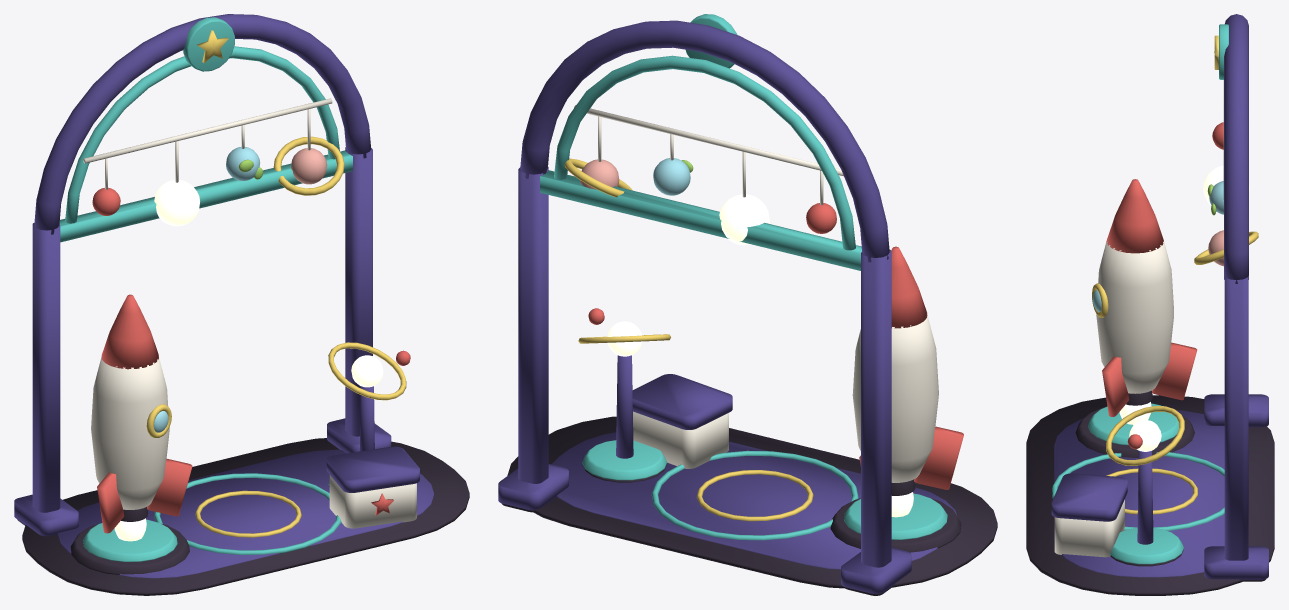
The model's file is space.glb.
3 views of the same model, side by side, from view 1: azimuth 30°, elevation 25°; view 2: azimuth 150°, elevation 25°; view 3: azimuth 270°, elevation 25° (orthographic). The views are drawn at different scales.
Visible parts, largest first — view 1: ThemeSpace_IndigoArchAndRug, ThemeSpace_SlateBaseAndPad, ThemeSpace_TurquoiseTechAccents, ThemeSpace_CreamRocketAndCrate, ThemeSpace_CoralFinsAndPlanets, ThemeSpace_ButterRingsAndStars, ThemeSpace_GlowSunAndThruster, ThemeSpace_SkyBlueEarthAndGlass, ThemeSpace_PeachSaturnBody; view 2: ThemeSpace_IndigoArchAndRug, ThemeSpace_TurquoiseTechAccents, ThemeSpace_SlateBaseAndPad, ThemeSpace_CreamRocketAndCrate, ThemeSpace_CoralFinsAndPlanets, ThemeSpace_GlowSunAndThruster, ThemeSpace_ButterRingsAndStars, ThemeSpace_SkyBlueEarthAndGlass, ThemeSpace_PeachSaturnBody; view 3: ThemeSpace_IndigoArchAndRug, ThemeSpace_SlateBaseAndPad, ThemeSpace_CreamRocketAndCrate, ThemeSpace_CoralFinsAndPlanets, ThemeSpace_TurquoiseTechAccents, ThemeSpace_ButterRingsAndStars, ThemeSpace_GlowSunAndThruster, ThemeSpace_SkyBlueEarthAndGlass, ThemeSpace_PeachSaturnBody.
Boxes of the visible parts, <box> form: ThemeSpace_IndigoArchAndRug: <box>14,14,433,578</box>; ThemeSpace_SlateBaseAndPad: <box>17,438,469,595</box>; ThemeSpace_TurquoiseTechAccents: <box>59,17,352,561</box>; ThemeSpace_CreamRocketAndCrate: <box>83,98,416,528</box>; ThemeSpace_CoralFinsAndPlanets: <box>92,187,410,533</box>; ThemeSpace_ButterRingsAndStars: <box>146,30,406,537</box>; ThemeSpace_GlowSunAndThruster: <box>114,180,383,541</box>; ThemeSpace_SkyBlueEarthAndGlass: <box>153,146,259,432</box>; ThemeSpace_PeachSaturnBody: <box>291,148,327,184</box>; ThemeSpace_IndigoArchAndRug: <box>498,20,956,594</box>; ThemeSpace_TurquoiseTechAccents: <box>540,14,947,540</box>; ThemeSpace_SlateBaseAndPad: <box>501,416,997,595</box>; ThemeSpace_CreamRocketAndCrate: <box>574,105,938,482</box>; ThemeSpace_CoralFinsAndPlanets: <box>588,203,963,489</box>; ThemeSpace_GlowSunAndThruster: <box>607,194,913,517</box>; ThemeSpace_ButterRingsAndStars: <box>564,158,813,521</box>; ThemeSpace_SkyBlueEarthAndGlass: <box>653,158,690,195</box>; ThemeSpace_PeachSaturnBody: <box>580,159,619,189</box>; ThemeSpace_IndigoArchAndRug: <box>1051,14,1268,579</box>; ThemeSpace_SlateBaseAndPad: <box>1026,390,1274,595</box>; ThemeSpace_CreamRocketAndCrate: <box>1054,80,1223,557</box>; ThemeSpace_CoralFinsAndPlanets: <box>1054,122,1223,517</box>; ThemeSpace_TurquoiseTechAccents: <box>1052,24,1228,564</box>; ThemeSpace_ButterRingsAndStars: <box>1092,35,1258,514</box>; ThemeSpace_GlowSunAndThruster: <box>1119,165,1249,451</box>; ThemeSpace_SkyBlueEarthAndGlass: <box>1092,181,1223,312</box>; ThemeSpace_PeachSaturnBody: <box>1208,230,1223,266</box>.
Bounding box in the file's own units: 1.84 × 2.05 × 0.98.
